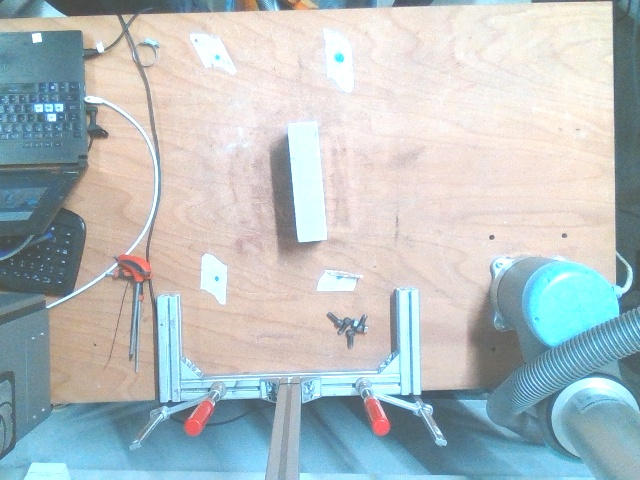brick-side: (285, 120, 326, 242)
